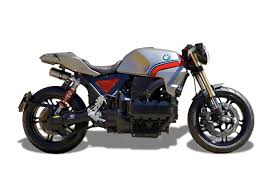motorcycle: (18, 41, 256, 154)
